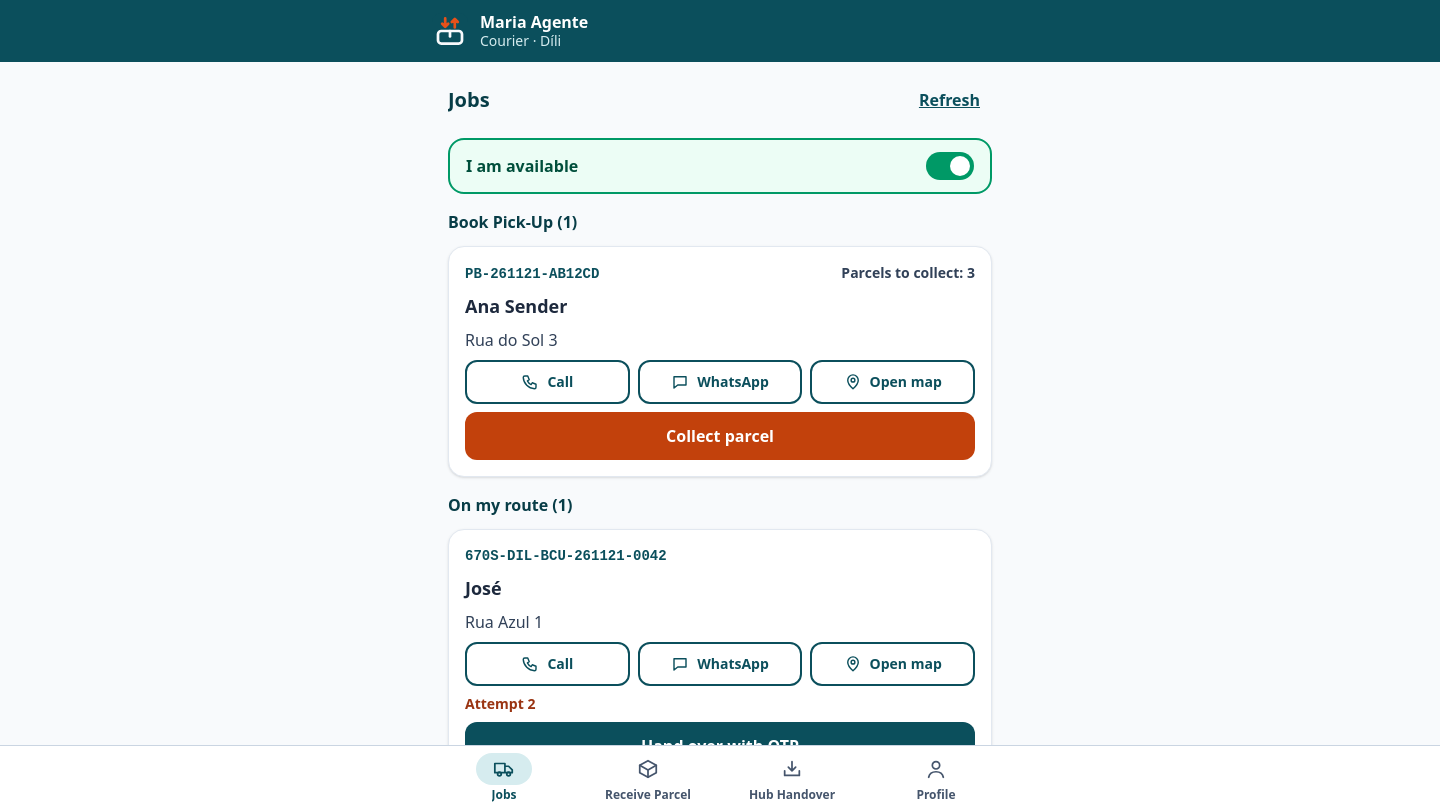
Test case: courier jobs › the availability switch tells the server, and reverts if it could not
Click the switch at (522, 166), box [448,138,992,194]
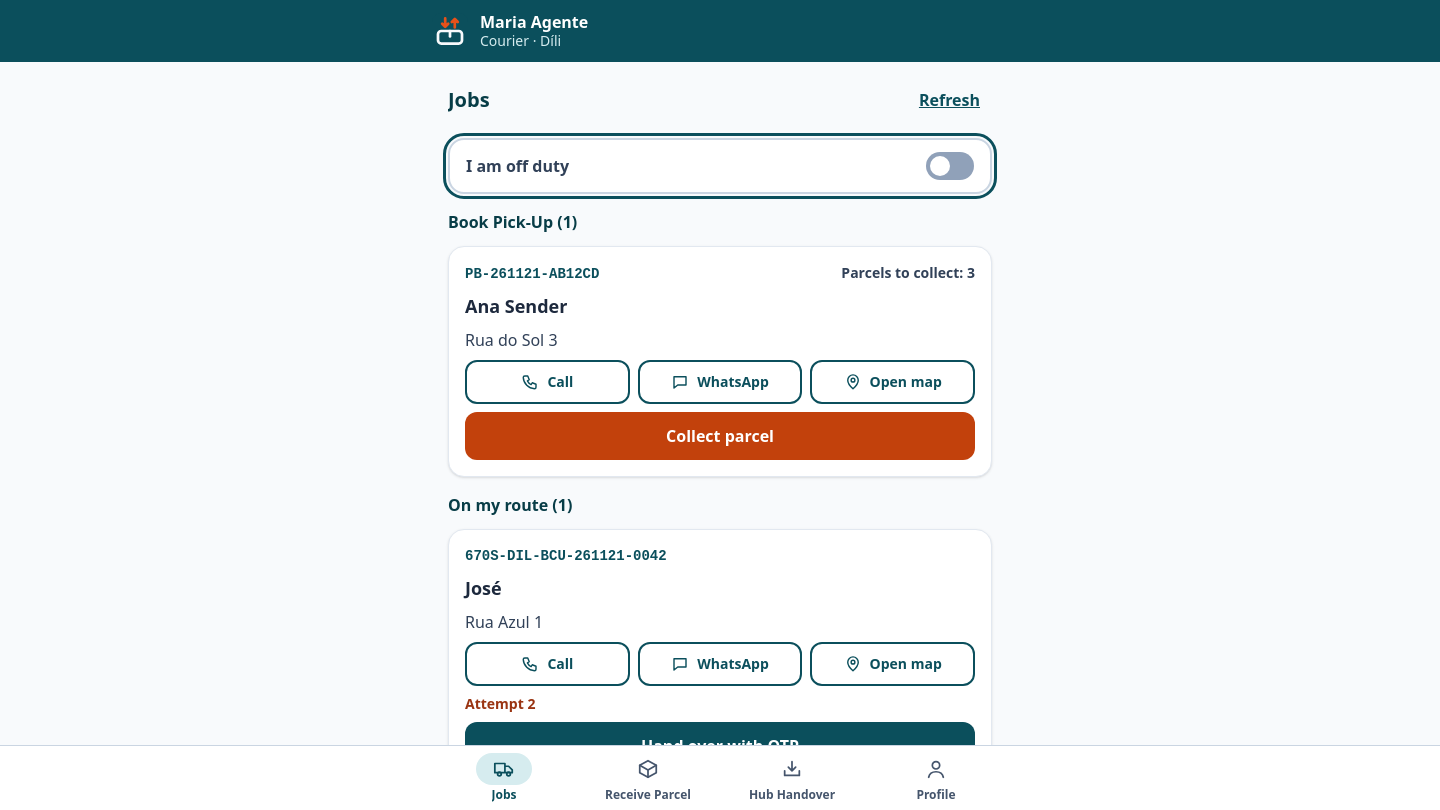
Result: the switch is not checked
Click the switch at (518, 166), box [448,138,992,194]
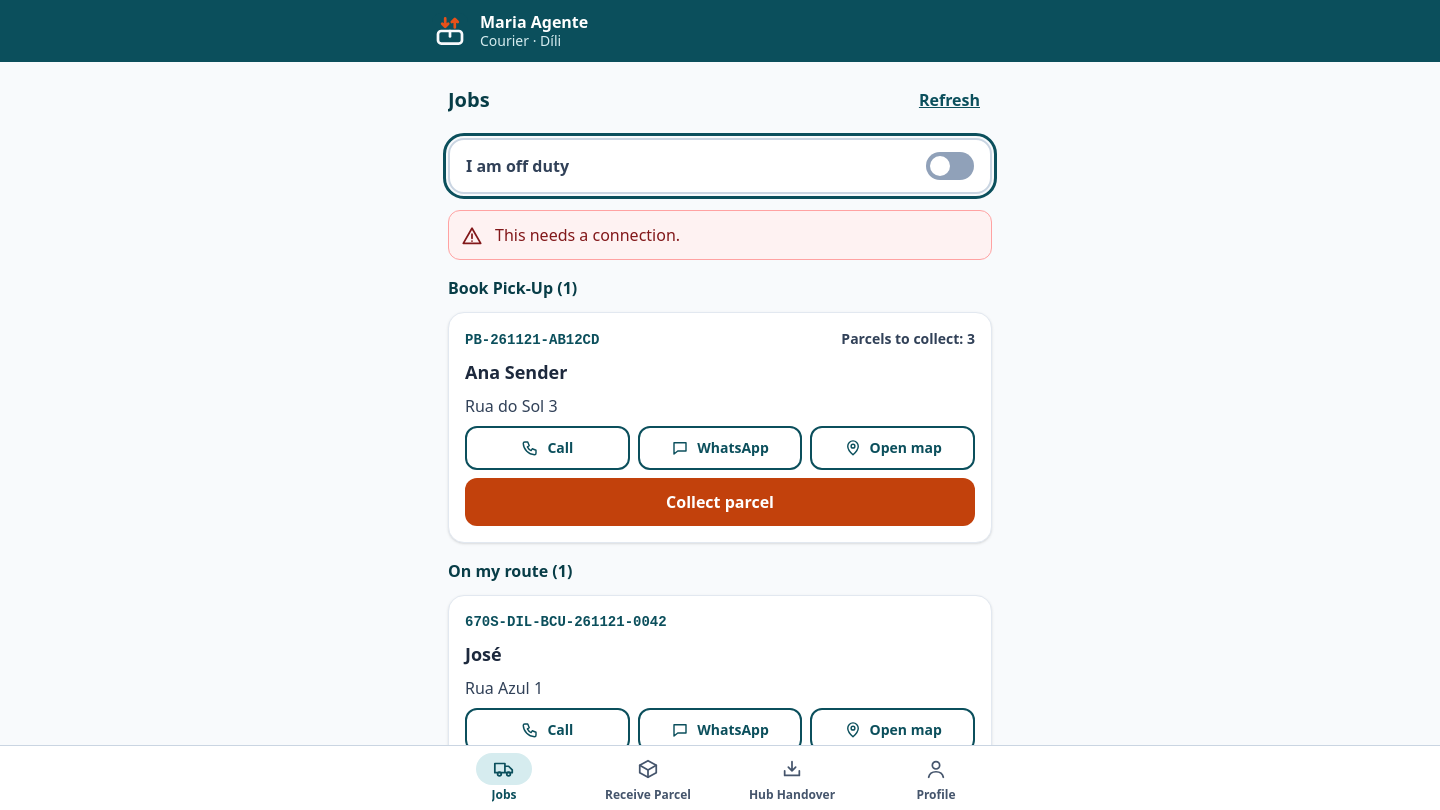
Result: the text "This needs a connection." is shown at [495,224,680,246]
